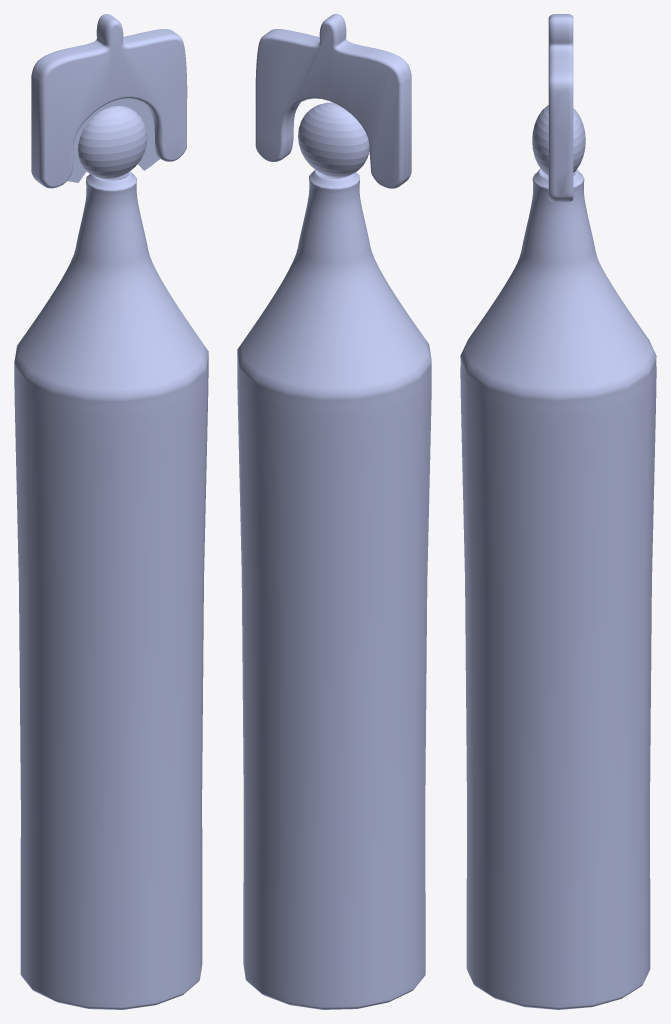
Rendered from collyre.glb.
3 renders of one model, left to right at view 1: azimuth 30°, elevation 25°; view 2: azimuth 150°, elevation 25°; view 3: azimuth 270°, elevation 25°, orthographic.
Parts seen in each view (by area): view 1: Point, Point.002; view 2: Point, Point.002; view 3: Point, Point.002.
Boxes of the visible parts, <box> form: Point: <box>14,171,208,1009</box>; Point.002: <box>31,14,187,188</box>; Point: <box>237,170,431,1009</box>; Point.002: <box>255,14,411,188</box>; Point: <box>460,168,656,1009</box>; Point.002: <box>532,14,585,201</box>.
Bounding box in the file's own units: 0.4715 × 2.58 × 0.4715.
